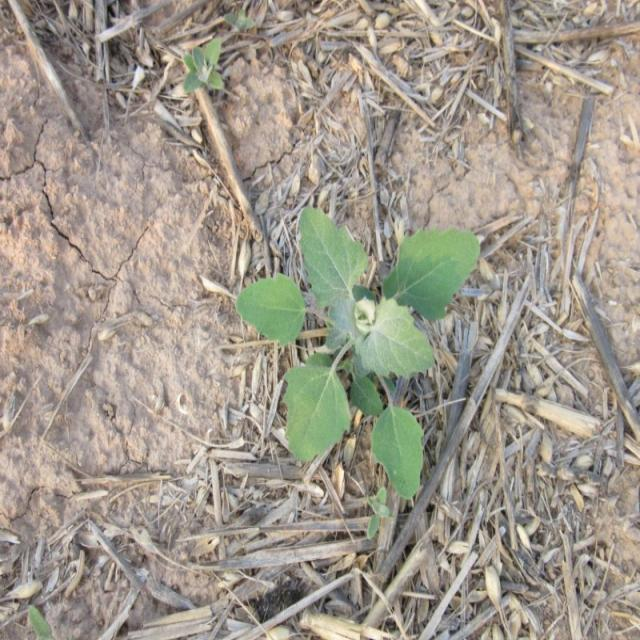ca: (239, 208, 479, 497)
